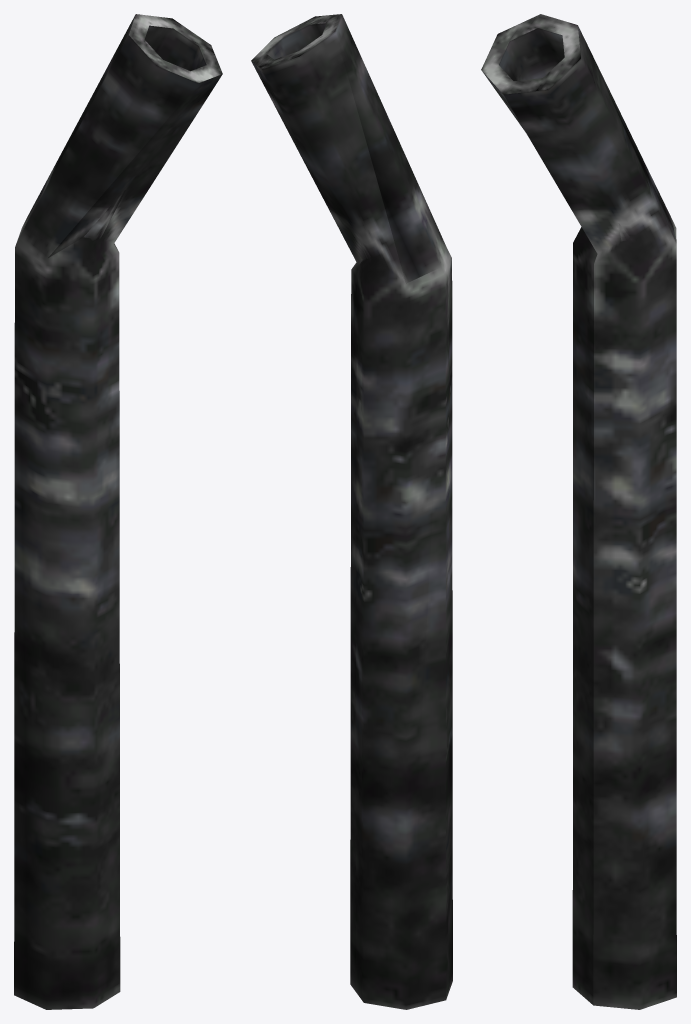
File: Lead Pipe.obj
3 renders of one model, left to right at view 1: azimuth 30°, elevation 25°; view 2: azimuth 210°, elevation 25°; view 3: azimuth 270°, elevation 25°, orthographic. The views are drawn at different scales.
Visible parts, largest first — view 1: leadpipe.leadpipe.smd.mesh_0; view 2: leadpipe.leadpipe.smd.mesh_0; view 3: leadpipe.leadpipe.smd.mesh_0.
Boxes of the visible parts, bbox=[...] form: leadpipe.leadpipe.smd.mesh_0: bbox=[14, 14, 222, 1009]; leadpipe.leadpipe.smd.mesh_0: bbox=[251, 14, 452, 1009]; leadpipe.leadpipe.smd.mesh_0: bbox=[481, 14, 676, 1009].
Bounding box in the file's own units: 3.03 × 18.79 × 3.39.
Materials: 1 (1 with a texture image).
